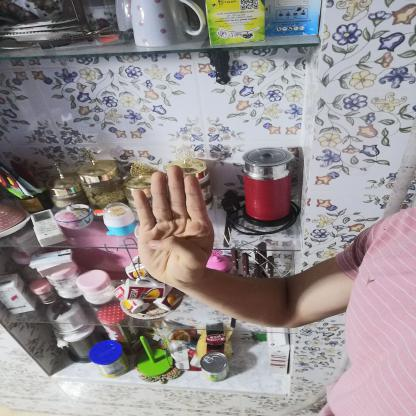KAAF: (113, 157, 228, 294)
